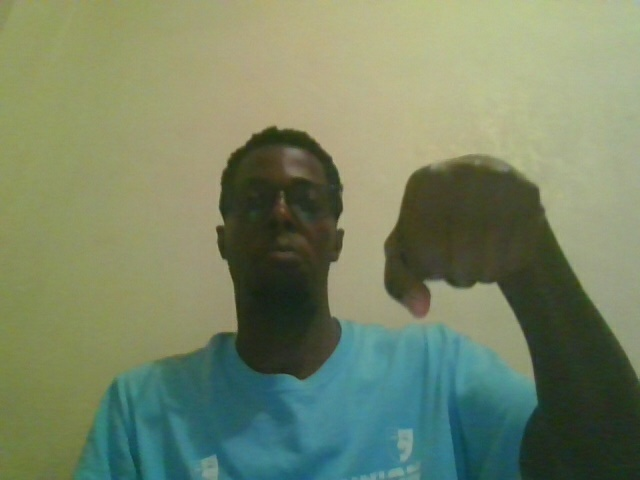Yes: (375, 150, 620, 365)
